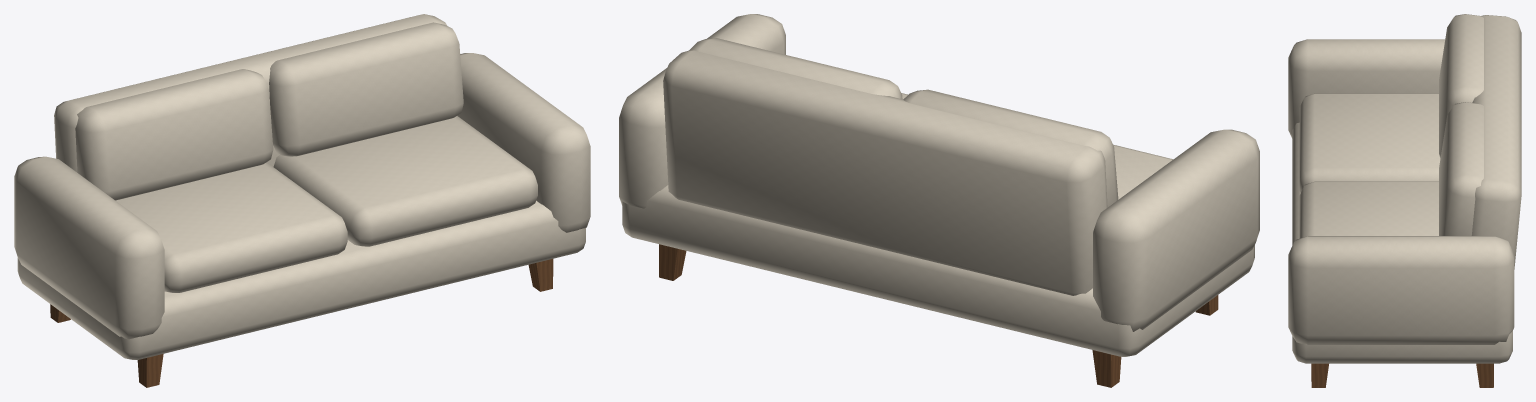
The model's file is SMASH_LAB_Modern_Sofa.gltf.
The picture shows the model from 3 angles, left to right: view 1: azimuth 30°, elevation 25°; view 2: azimuth 150°, elevation 25°; view 3: azimuth 270°, elevation 25°; orthographic projection. The views are drawn at different scales.
Parts seen in each view (by area): view 1: SMASH_LAB_Modern_Sofa; view 2: SMASH_LAB_Modern_Sofa; view 3: SMASH_LAB_Modern_Sofa.
Boxes of the visible parts, bbox=[...] form: SMASH_LAB_Modern_Sofa: bbox=[14, 14, 590, 387]; SMASH_LAB_Modern_Sofa: bbox=[619, 14, 1259, 387]; SMASH_LAB_Modern_Sofa: bbox=[1288, 14, 1521, 387].
Bounding box in the file's own units: 2 × 0.85 × 0.9.
Materials: 2 (2 with a texture image).
